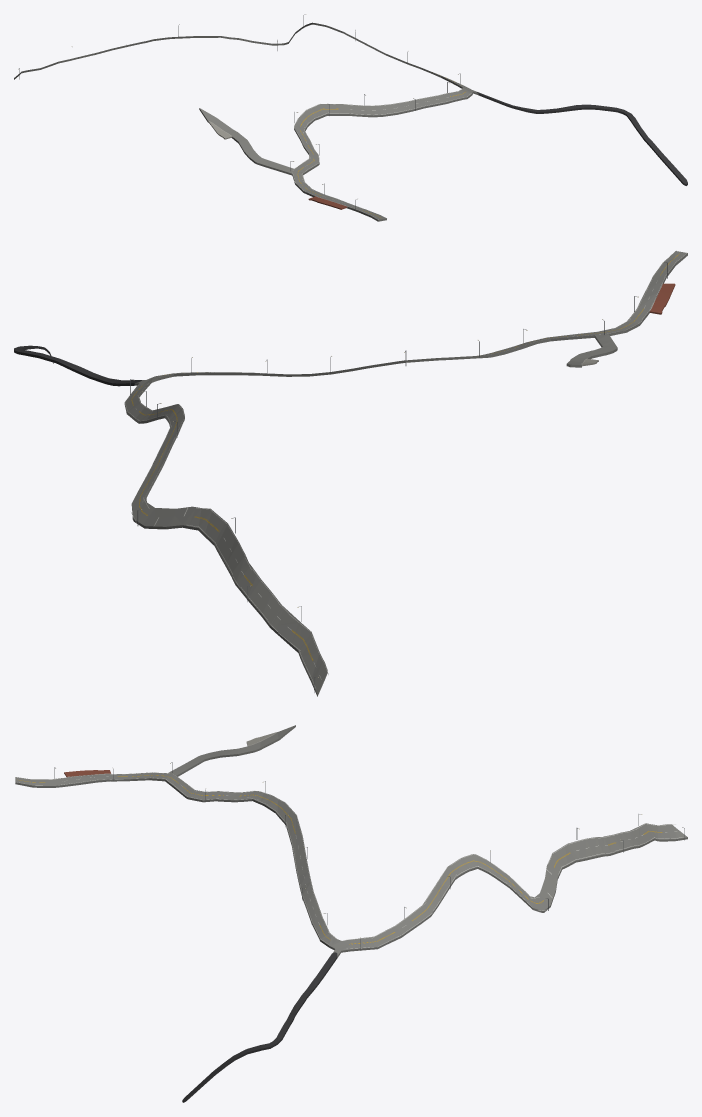
The model's file is 16-54726-29731.440dff44.glb.
3 renders of one model, top to bottom at view 1: azimuth 30°, elevation 25°; view 2: azimuth 150°, elevation 25°; view 3: azimuth 270°, elevation 25°, orthographic. The views are drawn at different scales.
Bounding box in the file's own units: 296 × 93.57 × 372.
